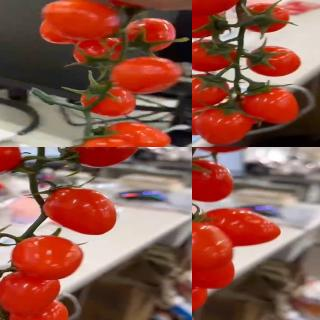tomato: (46, 187, 119, 236), (193, 207, 282, 247), (12, 236, 83, 282), (41, 0, 119, 39), (109, 54, 183, 94), (0, 272, 61, 316), (241, 87, 302, 127), (193, 106, 252, 147), (124, 17, 178, 58), (79, 81, 138, 117), (192, 221, 233, 271), (192, 158, 234, 204), (69, 35, 125, 69), (99, 121, 171, 147), (246, 44, 303, 76), (65, 147, 141, 168), (192, 254, 236, 290), (192, 40, 237, 73), (244, 2, 291, 32), (192, 5, 232, 38), (192, 74, 231, 107), (6, 300, 68, 320), (192, 103, 225, 137), (192, 0, 242, 16), (77, 136, 144, 147), (0, 289, 15, 320)
